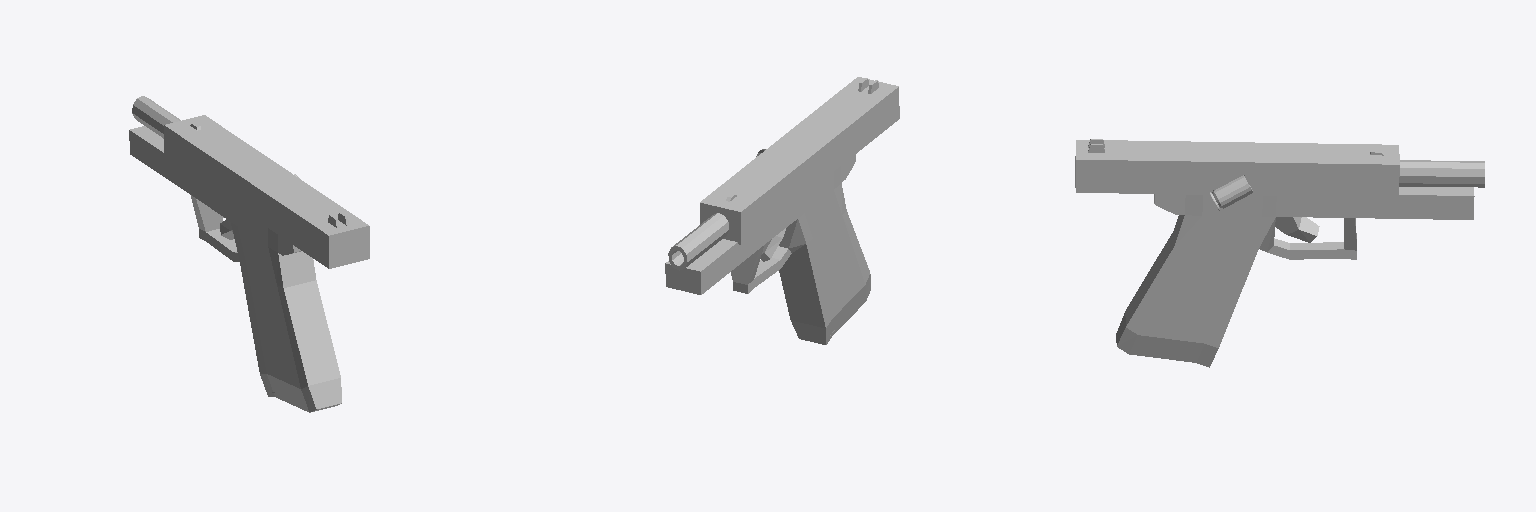
The model's file is pistolet_000036.obj.
3 renders of one model, left to right at view 1: azimuth 30°, elevation 25°; view 2: azimuth 150°, elevation 25°; view 3: azimuth 270°, elevation 25°, orthographic.
Visible parts, largest first — view 1: Cube.004, Cube.001; view 2: Cube.004, Cube.001; view 3: Cube.004, Cube.001, Cylinder, Cube.003.
Part boxes in pixels (left/top/right/bottom): Cube.004: left=129, top=96, right=341, bottom=412; Cube.001: left=164, top=115, right=369, bottom=268; Cube.004: left=665, top=154, right=870, bottom=344; Cube.001: left=700, top=77, right=899, bottom=244; Cube.004: left=1116, top=160, right=1484, bottom=367; Cube.001: left=1075, top=139, right=1399, bottom=197; Cylinder: left=1209, top=174, right=1253, bottom=210; Cube.003: left=1275, top=217, right=1319, bottom=242.
Bounding box in the file's own units: 0.2279 × 0.7343 × 1.24.